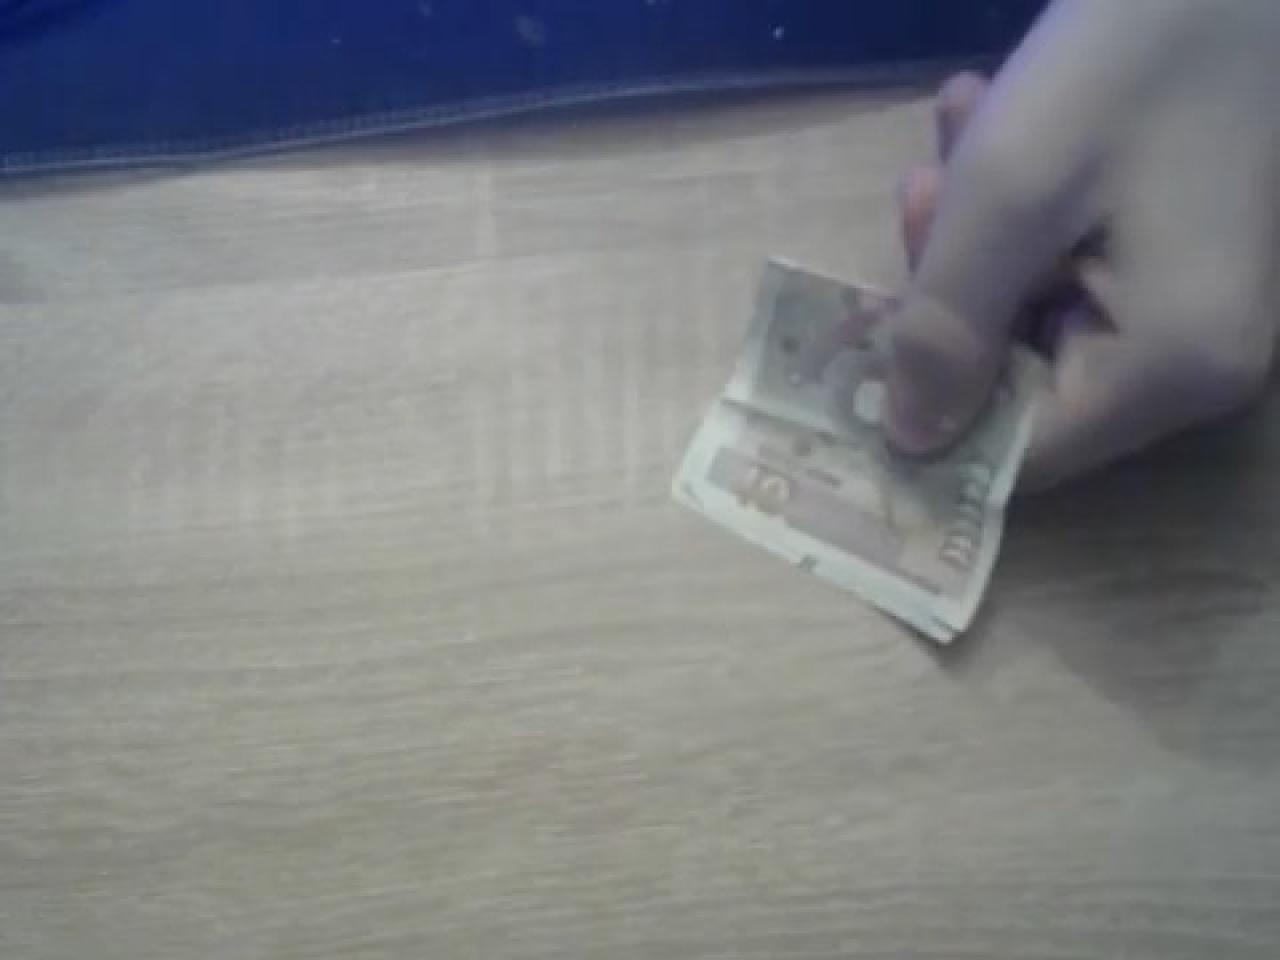10leva: (672, 253, 1048, 647)
